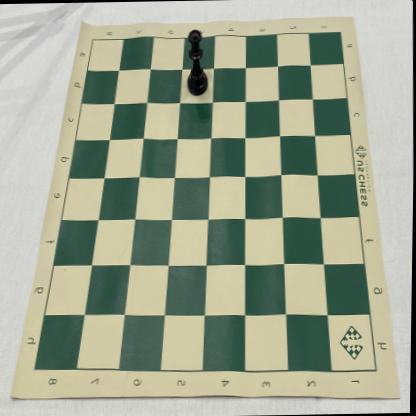black-queen: (185, 28, 209, 96)
